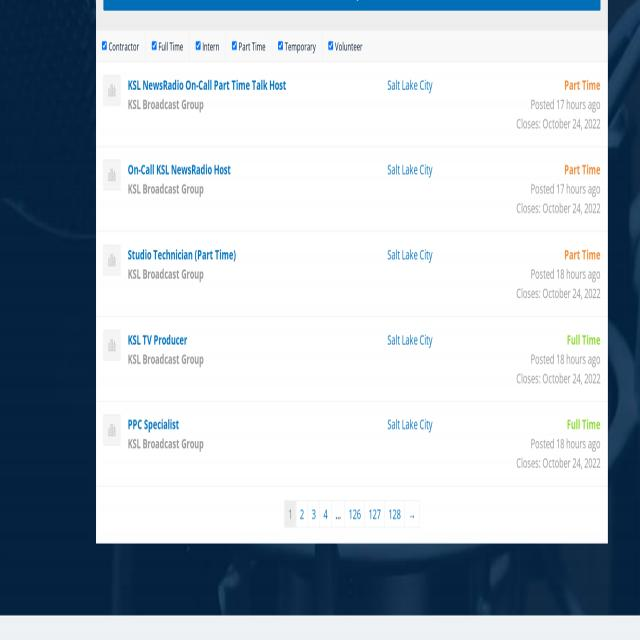button: (104, 75, 120, 106), (104, 415, 120, 446), (104, 160, 120, 190), (104, 245, 120, 275), (104, 330, 120, 360), (345, 502, 365, 526), (365, 502, 384, 526), (385, 502, 404, 526), (331, 501, 345, 527), (405, 502, 419, 526), (284, 500, 296, 527), (296, 502, 308, 526), (308, 502, 320, 526), (320, 502, 331, 526)
field: (278, 38, 316, 54), (101, 37, 139, 52), (328, 38, 363, 54), (232, 38, 266, 54), (152, 38, 183, 54), (196, 38, 219, 54), (102, 40, 108, 50), (232, 40, 238, 50), (278, 40, 284, 50), (328, 40, 334, 50), (152, 40, 157, 50), (196, 40, 201, 50)
